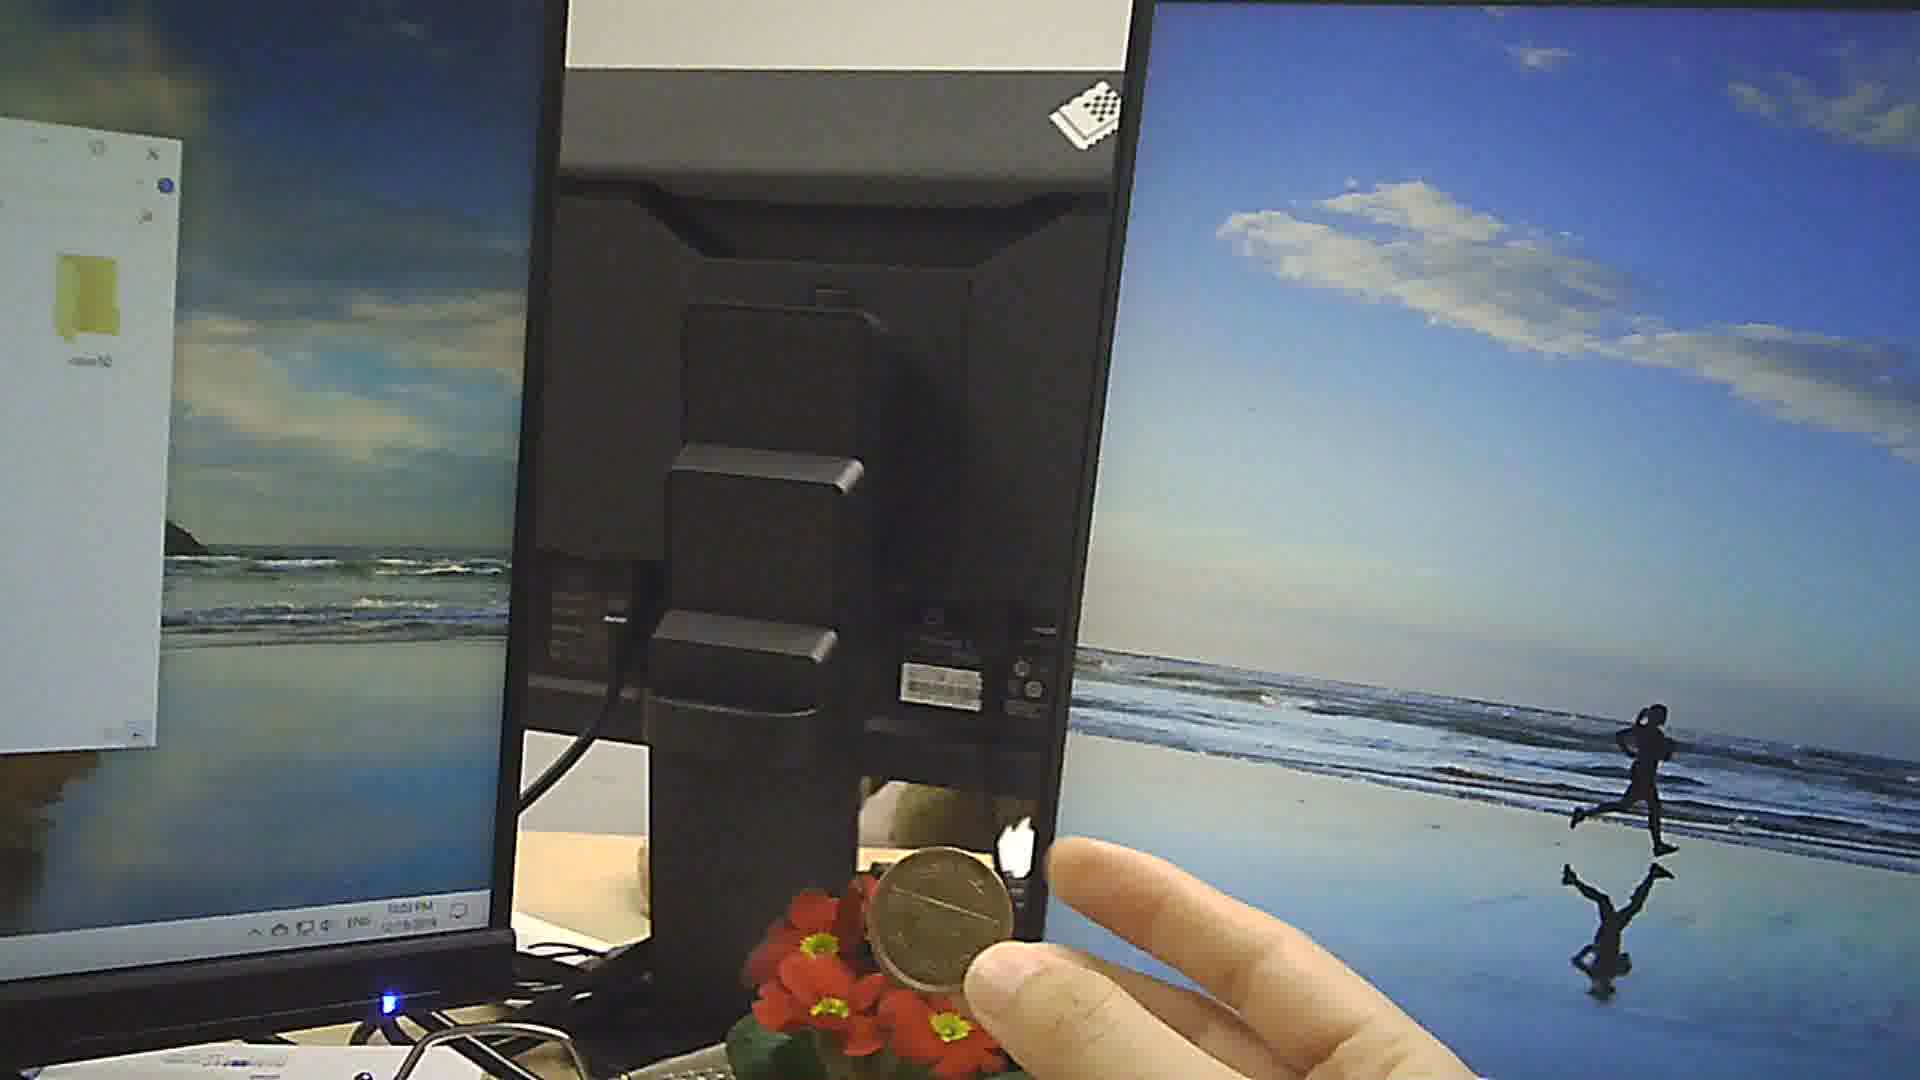10 Yen: (864, 848, 1026, 1000)
